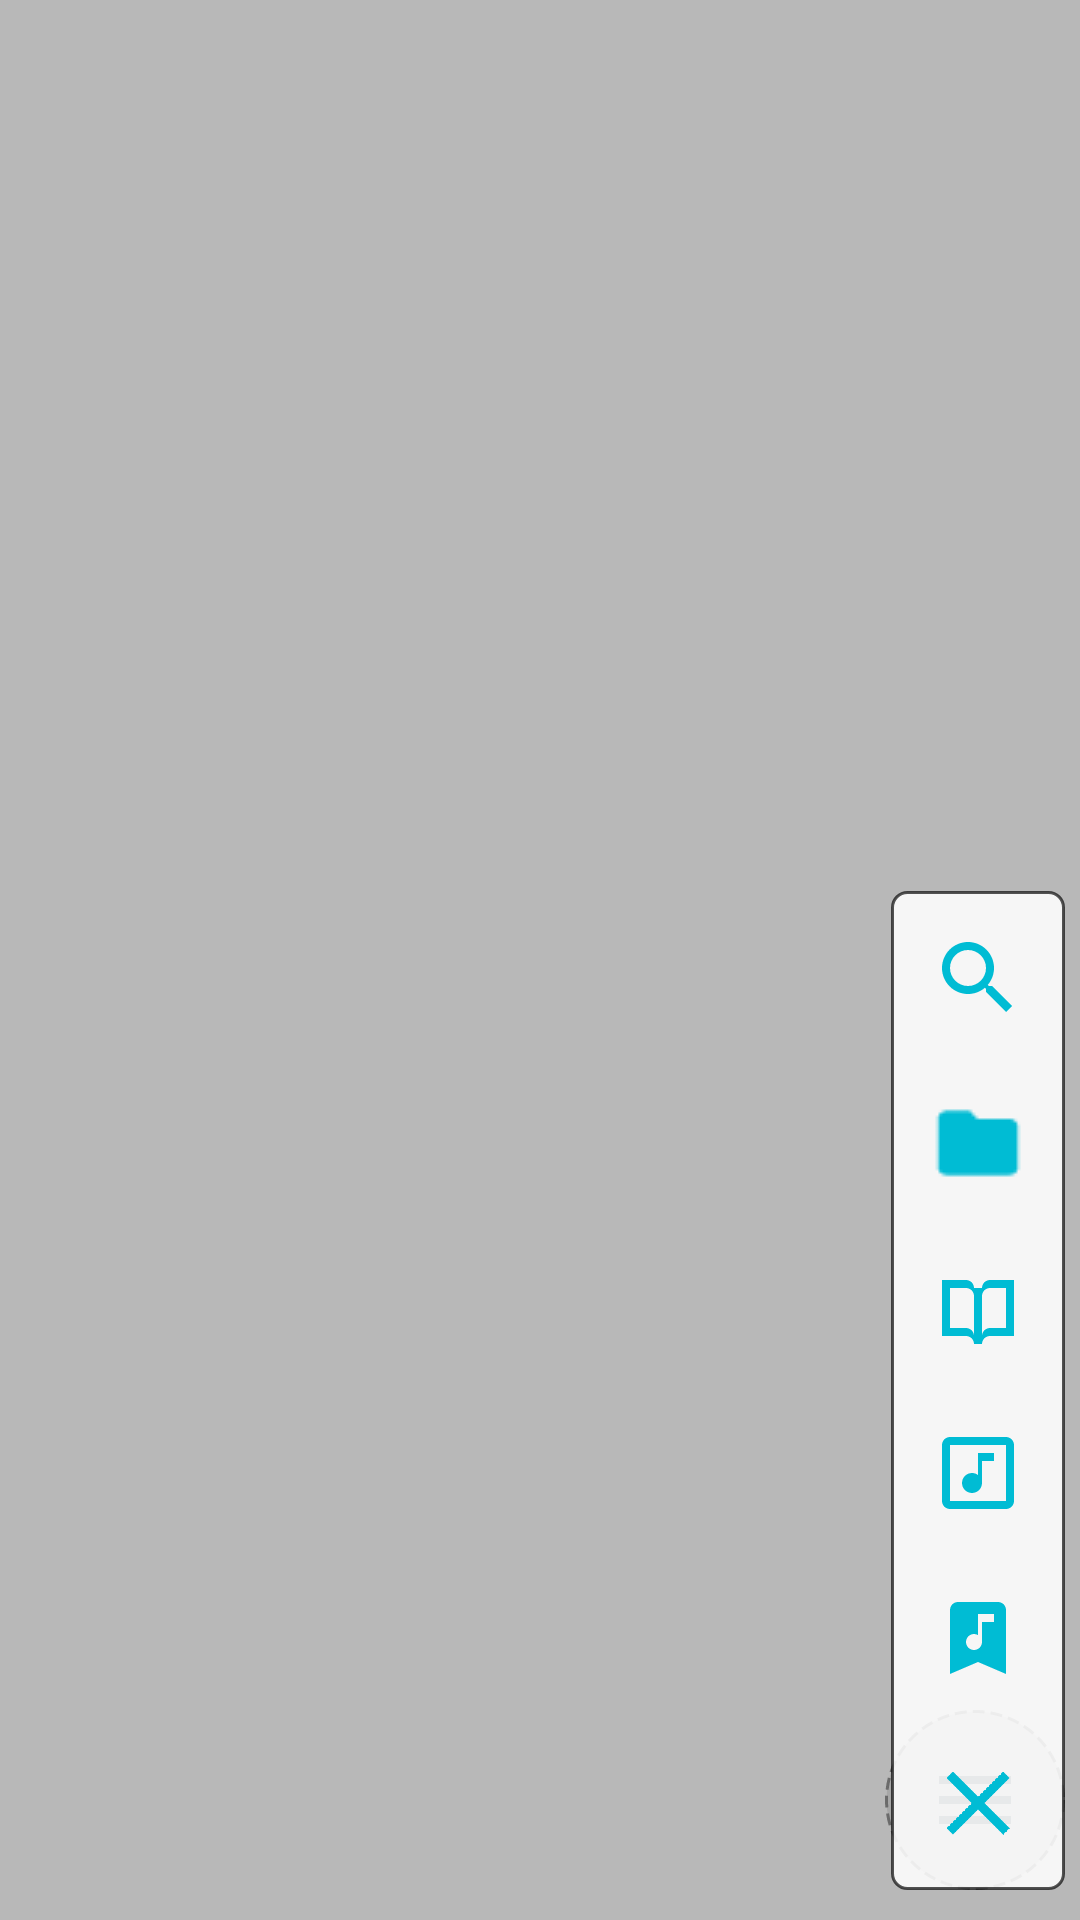

Icon click points for this 1080×1920 phone screenshot, format (x=x, y=y):
book open: (x=978, y=1312)
bookmark music: (x=978, y=1638)
folder: (x=978, y=1143)
magnify: (x=977, y=977)
music box: (x=978, y=1473)
